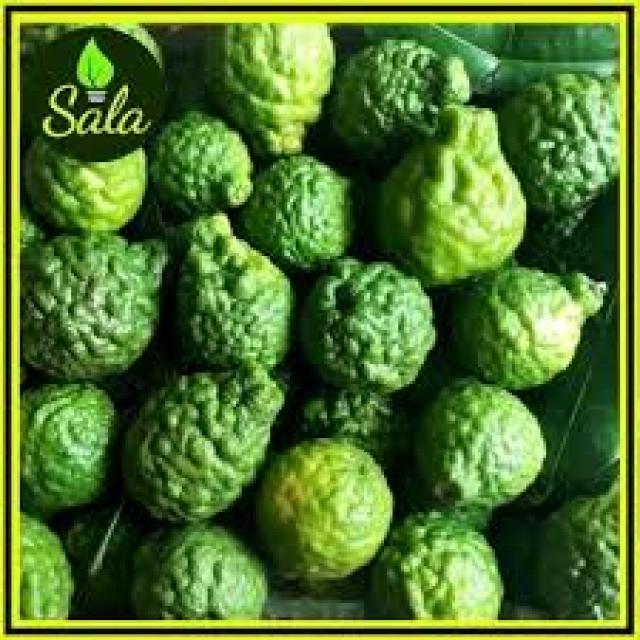Chuc: (376, 103, 526, 284), (18, 218, 164, 372), (134, 360, 275, 513), (495, 68, 620, 239), (253, 435, 393, 586), (455, 259, 623, 376), (299, 256, 435, 393), (327, 34, 469, 162), (421, 374, 550, 514), (204, 20, 336, 156), (170, 220, 296, 358), (237, 160, 373, 266), (137, 519, 266, 620), (21, 386, 123, 508), (23, 131, 148, 230), (391, 515, 502, 620), (540, 492, 628, 623), (152, 108, 251, 211), (9, 507, 67, 630)
